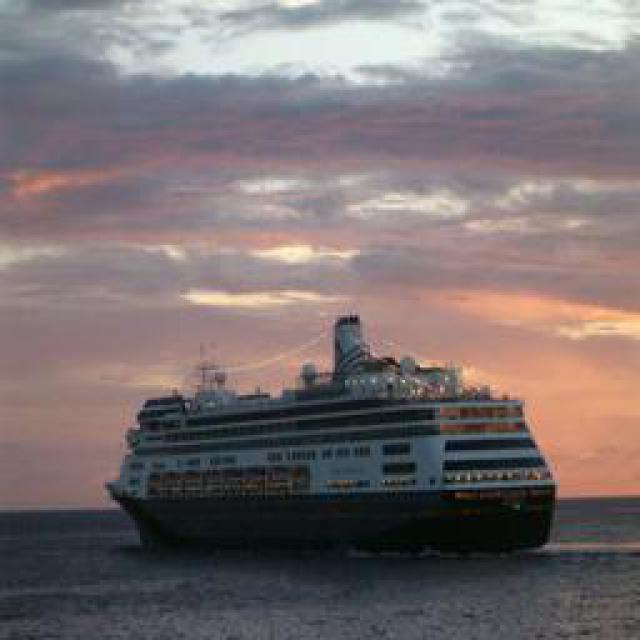Ship: (111, 319, 561, 562)
